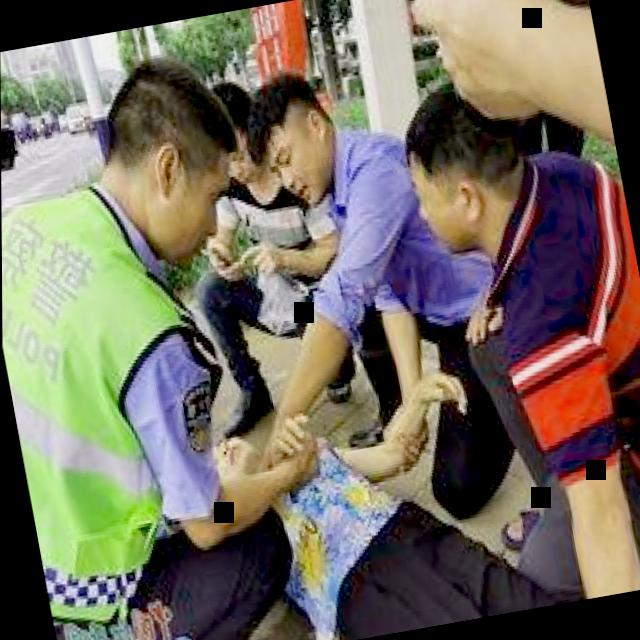Fall-Detected: (216, 313, 636, 640)
